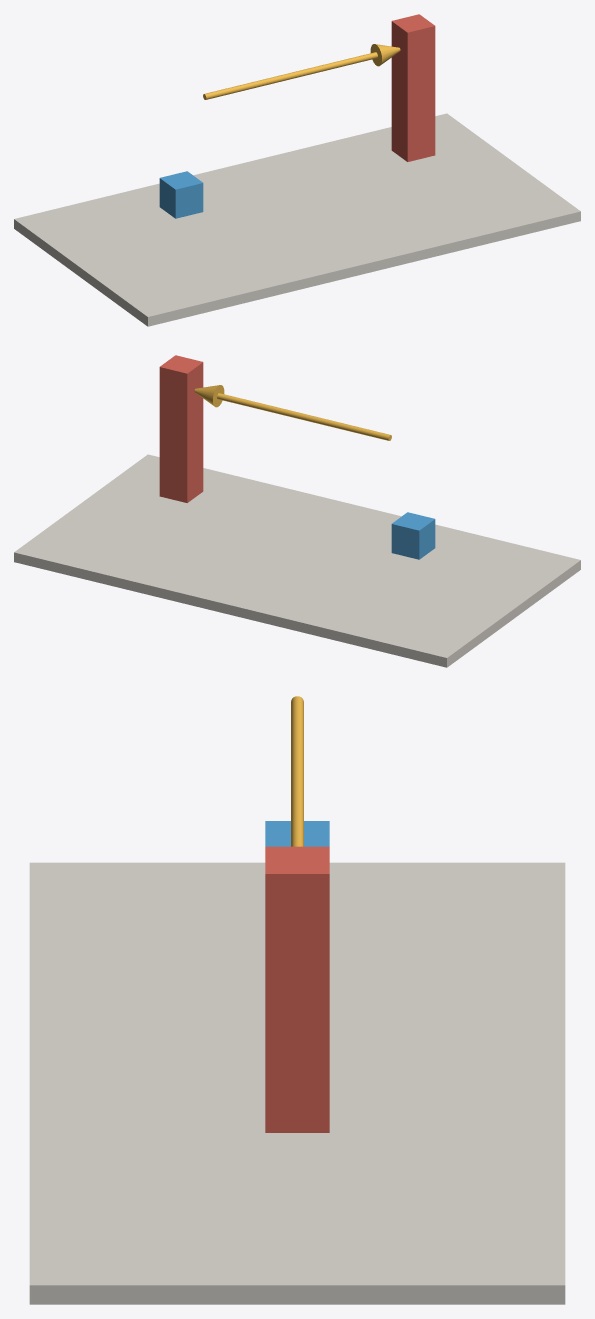
File: math-data-range.glb
3 views of the same model, one above another, from view 1: azimuth 30°, elevation 25°; view 2: azimuth 150°, elevation 25°; view 3: azimuth 270°, elevation 25° (orthographic). The views are drawn at different scales.
Parts seen in each view (by area): view 1: manipulative-base, high-value, low-value, range-arrow-shaft, range-arrow-head; view 2: manipulative-base, high-value, low-value, range-arrow-shaft, range-arrow-head; view 3: manipulative-base, high-value, range-arrow-shaft, low-value.
Boxes of the visible parts, <box> form: manipulative-base: <box>14,113,580,326</box>; high-value: <box>391,14,435,161</box>; low-value: <box>159,171,203,218</box>; range-arrow-shaft: <box>203,52,377,99</box>; range-arrow-head: <box>370,44,400,66</box>; manipulative-base: <box>14,454,580,667</box>; high-value: <box>159,355,203,502</box>; low-value: <box>391,512,435,559</box>; range-arrow-shaft: <box>217,393,391,440</box>; range-arrow-head: <box>194,385,224,407</box>; manipulative-base: <box>29,862,565,1304</box>; high-value: <box>265,846,329,1132</box>; range-arrow-shaft: <box>291,696,303,846</box>; low-value: <box>265,821,329,846</box>.
Size of what is drawn, in the model's own units: 2.8 by 1.07 by 1.5.
